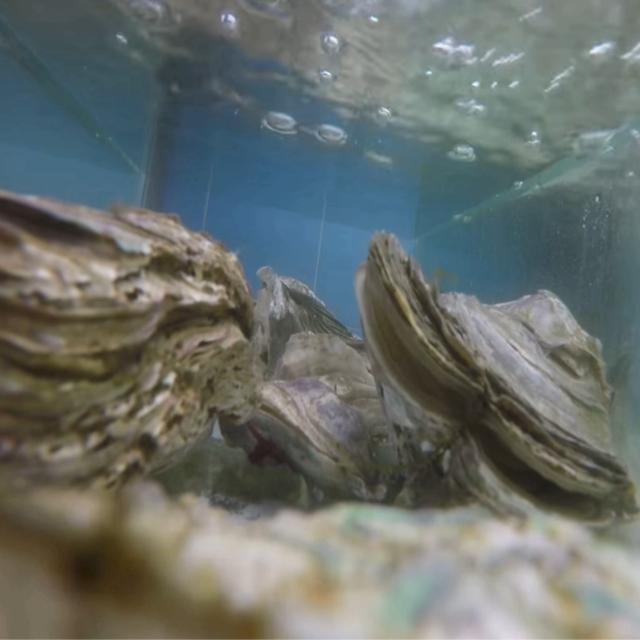Oyster-Closed: (0, 190, 255, 526), (249, 333, 416, 509)
Oyster-Indeterminate: (0, 478, 640, 640)
Oyster-Open: (356, 231, 640, 539)
